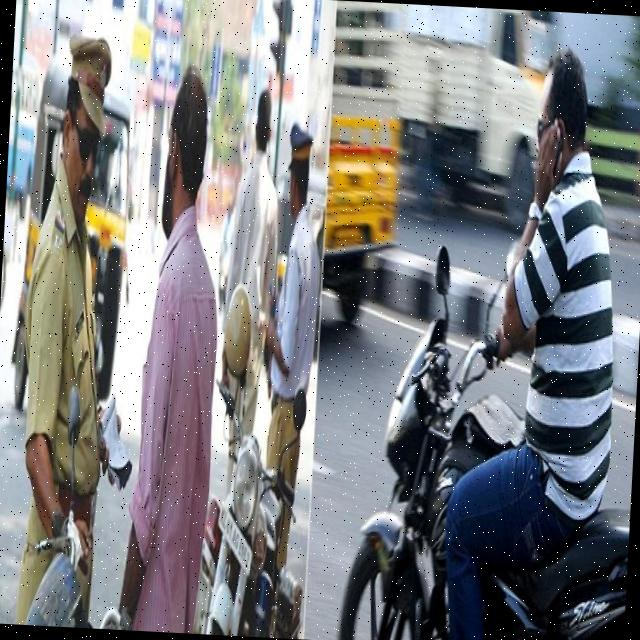Using mobile: (508, 29, 624, 248)
